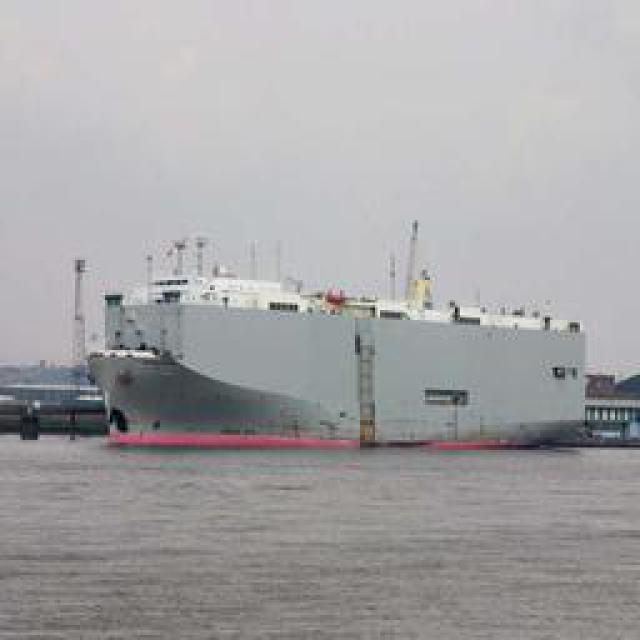Ship: (84, 281, 589, 446)
